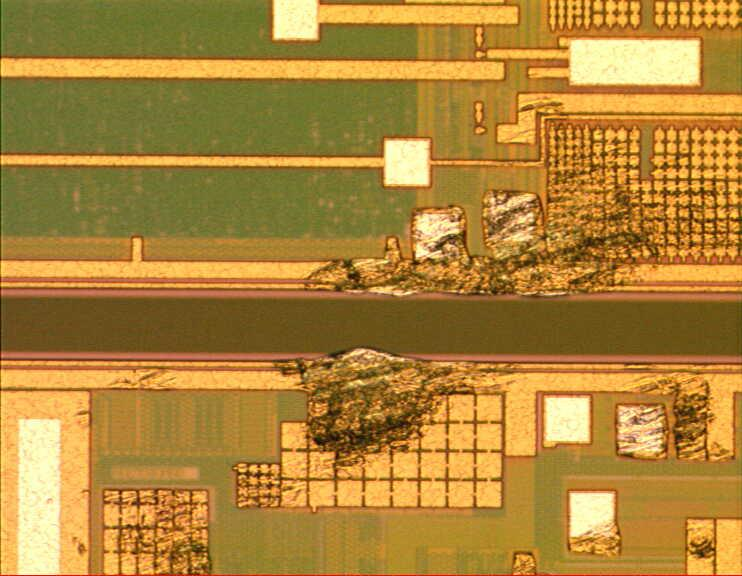SCRATCH: (65, 90, 742, 576)
